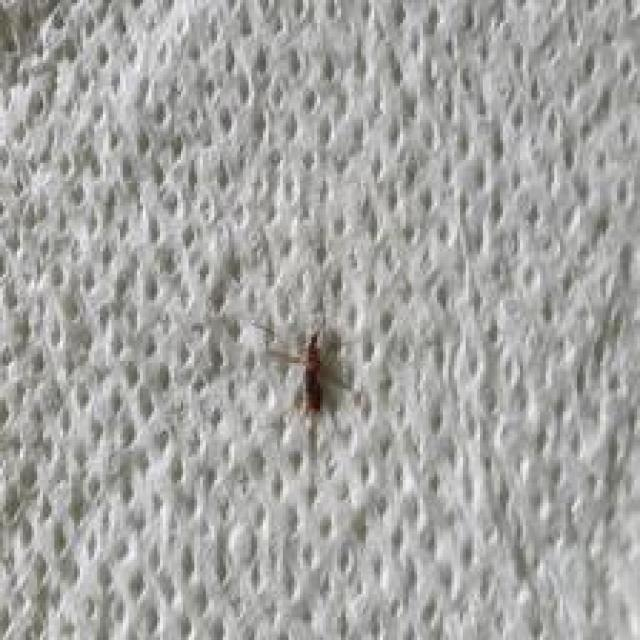Culex: (256, 322, 353, 418)
